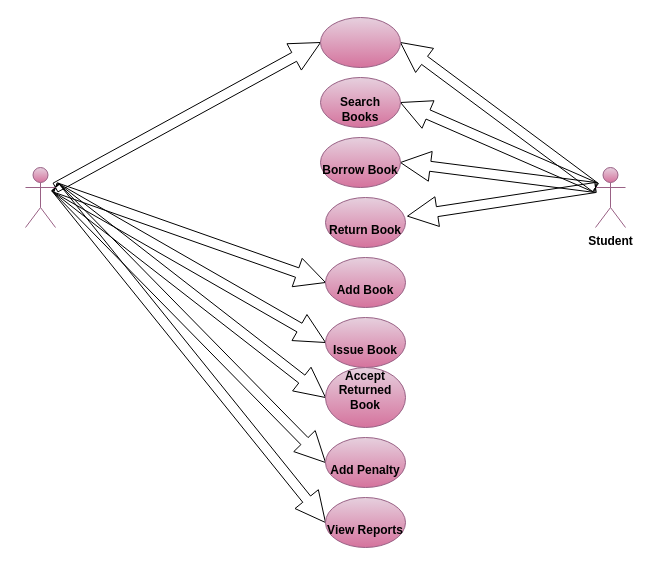
This 650x565 diagram has some shape labels left out. The box of each missing label's shape, as (x1, y1, x2, y2) in pixels:
Librarian: (24, 166, 56, 228)
Login: (320, 16, 400, 68)
